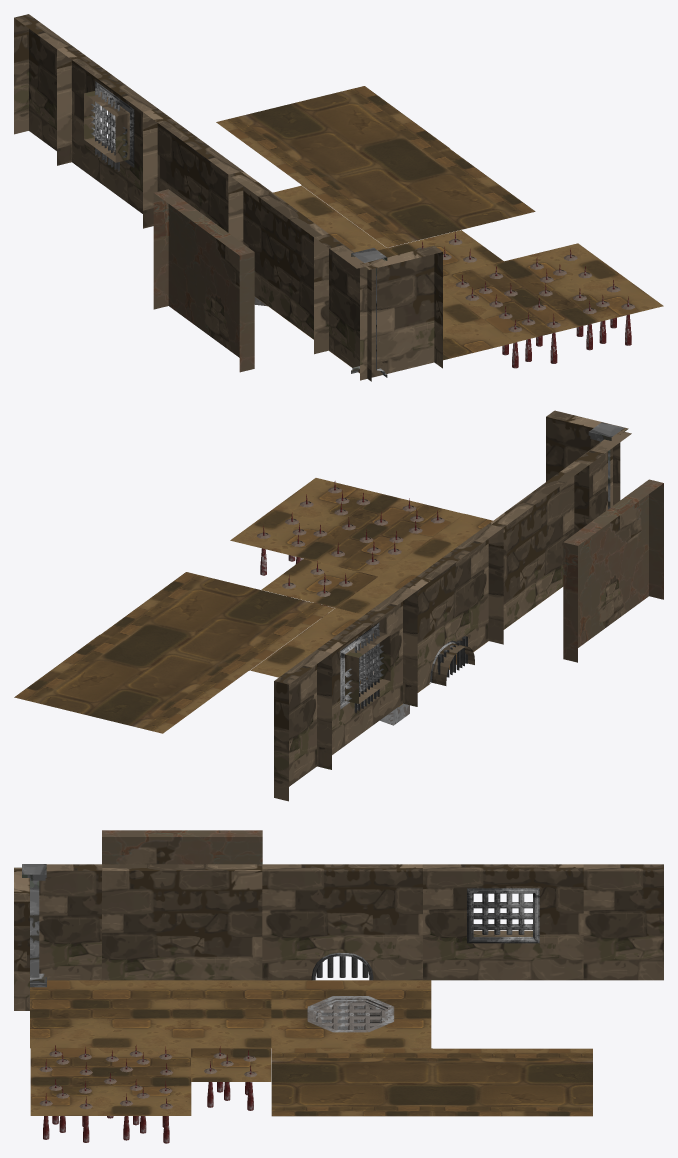
The model's file is walls_N_Floor.fbx.
The picture shows the model from 3 angles, top to bottom: view 1: azimuth 30°, elevation 25°; view 2: azimuth 150°, elevation 25°; view 3: azimuth 270°, elevation 25°; orthographic projection. The views are drawn at different scales.
Visible parts, largest first — view 1: WallCorner, pattern_floor2, pattern_floor, FloorTrap, pattern_wall, WallWindow, WallSquare, WallHalf, WallGutter, FloorSquare, FloorGutter, FloorTrapSmall (+1 smaller); view 2: pattern_floor2, pattern_floor, FloorTrap, pattern_wall, WallGutter, WallWindow, WallSquare, WallCorner, WallHalf, FloorTrapSmall, FloorGutter, FloorSquare (+2 smaller); view 3: WallSquare, WallWindow, WallGutter, pattern_floor, FloorGutter, pattern_floor2, FloorTrap, WallCorner, FloorSquare, WallHalf, pattern_wall, FloorHalf (+4 smaller).
Boxes of the visible parts, left/top/right/bottom form: WallCorner: left=314, top=234, right=442, bottom=381; pattern_floor2: left=216, top=86, right=449, bottom=184; pattern_floor: left=301, top=149, right=535, bottom=247; FloorTrap: left=443, top=243, right=663, bottom=342; pattern_wall: left=153, top=189, right=254, bottom=372; WallWindow: left=57, top=45, right=157, bottom=228; WallSquare: left=228, top=171, right=328, bottom=354; WallHalf: left=14, top=14, right=71, bottom=165; WallGutter: left=143, top=108, right=243, bottom=243; FloorSquare: left=282, top=290, right=515, bottom=372; FloorGutter: left=254, top=185, right=386, bottom=306; FloorTrapSmall: left=387, top=230, right=503, bottom=276; pattern_floor2: left=14, top=634, right=248, bottom=733; pattern_floor: left=101, top=572, right=334, bottom=670; FloorTrap: left=230, top=478, right=463, bottom=576; pattern_wall: left=563, top=479, right=663, bottom=662; WallGutter: left=403, top=524, right=502, bottom=706; WallWindow: left=317, top=587, right=417, bottom=769; WallSquare: left=488, top=461, right=588, bottom=644; WallCorner: left=546, top=410, right=631, bottom=533; WallHalf: left=274, top=649, right=331, bottom=801; FloorTrapSmall: left=261, top=558, right=377, bottom=607; FloorGutter: left=250, top=608, right=483, bottom=725; FloorSquare: left=379, top=513, right=562, bottom=611; WallSquare: left=102, top=864, right=262, bottom=980; WallWindow: left=423, top=864, right=583, bottom=980; WallGutter: left=262, top=864, right=422, bottom=980; pattern_floor: left=271, top=1048, right=432, bottom=1116; FloorGutter: left=270, top=980, right=431, bottom=1048; pattern_floor2: left=432, top=1048, right=592, bottom=1116; FloorTrap: left=30, top=1048, right=191, bottom=1115; WallCorner: left=14, top=864, right=102, bottom=1010; FloorSquare: left=30, top=980, right=190, bottom=1048; WallHalf: left=583, top=864, right=663, bottom=980; pattern_wall: left=102, top=830, right=262, bottom=864; FloorHalf: left=190, top=980, right=271, bottom=1048.
Size of the model in its own units: 58.3 by 25.11 by 90.52.
